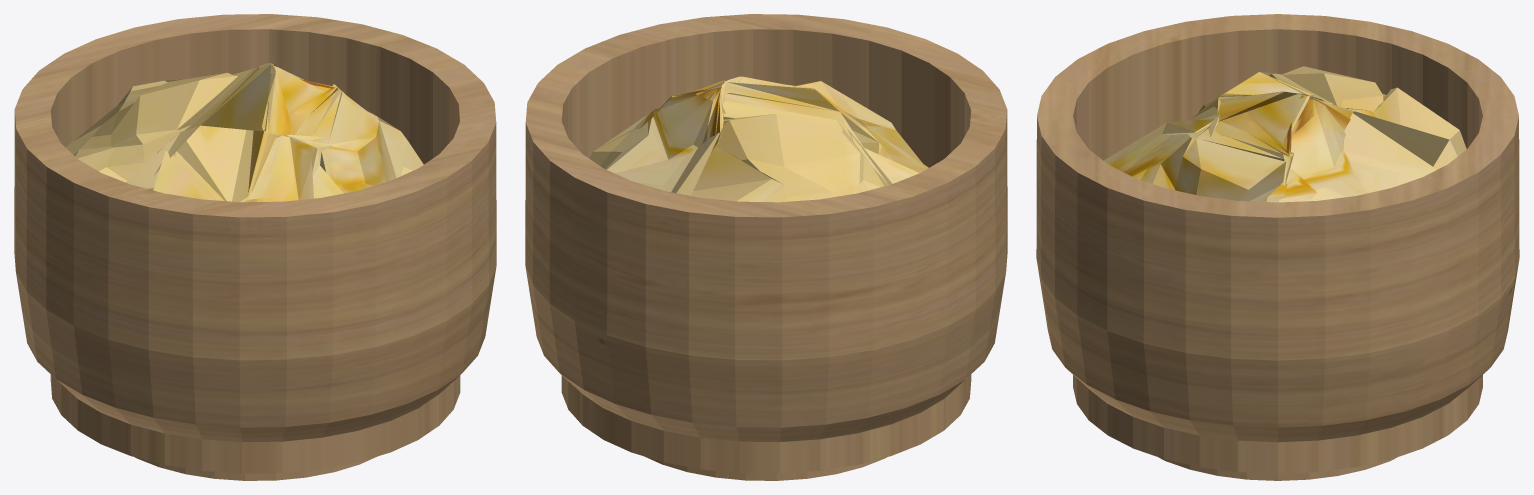
The model's file is Kentang Tumbuk 1.fbx.
3 renders of one model, left to right at view 1: azimuth 30°, elevation 25°; view 2: azimuth 150°, elevation 25°; view 3: azimuth 270°, elevation 25°, orthographic.
Parts seen in each view (by area): view 1: Cylinder, Sphere; view 2: Cylinder, Sphere; view 3: Cylinder, Sphere.
Part boxes in pixels (x1=…): Cylinder: x1=14, y1=14, x2=496, y2=480; Sphere: x1=65, y1=63, x2=423, y2=202; Cylinder: x1=525, y1=14, x2=1007, y2=480; Sphere: x1=589, y1=76, x2=928, y2=202; Cylinder: x1=1036, y1=14, x2=1519, y2=480; Sphere: x1=1104, y1=66, x2=1466, y2=202.
Bounding box in the file's own units: 306 × 233 × 306.
